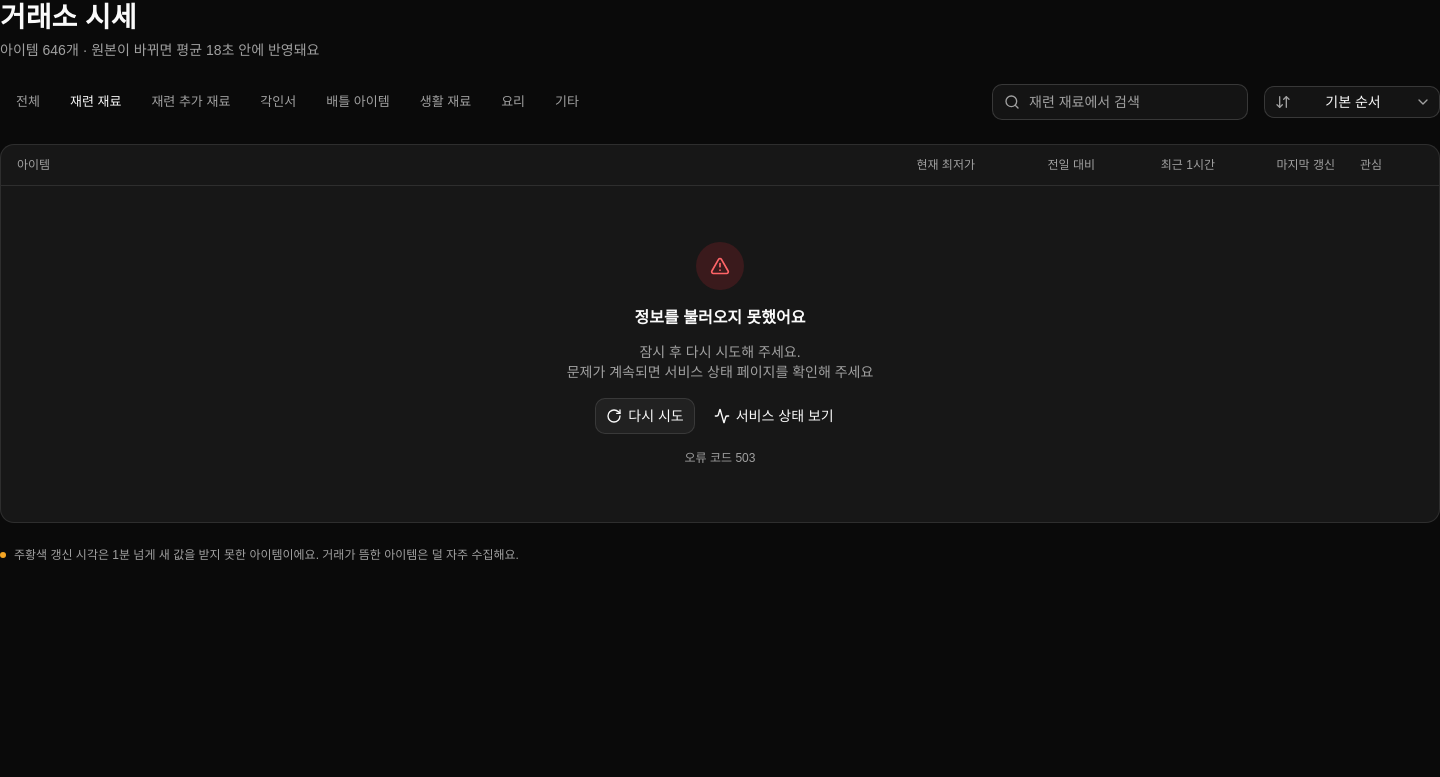
시세 목록 화면 › 목록을 불러오지 못하면 오류를 보여주고 다시 시도할 수 있다
This screenshot has width=1440, height=777.
expect the message shows "정보를 불러오지 못했어요": met, box [635,308,805,326]
Click the button "다시 시도" at (645, 416), box [595,398,695,434]
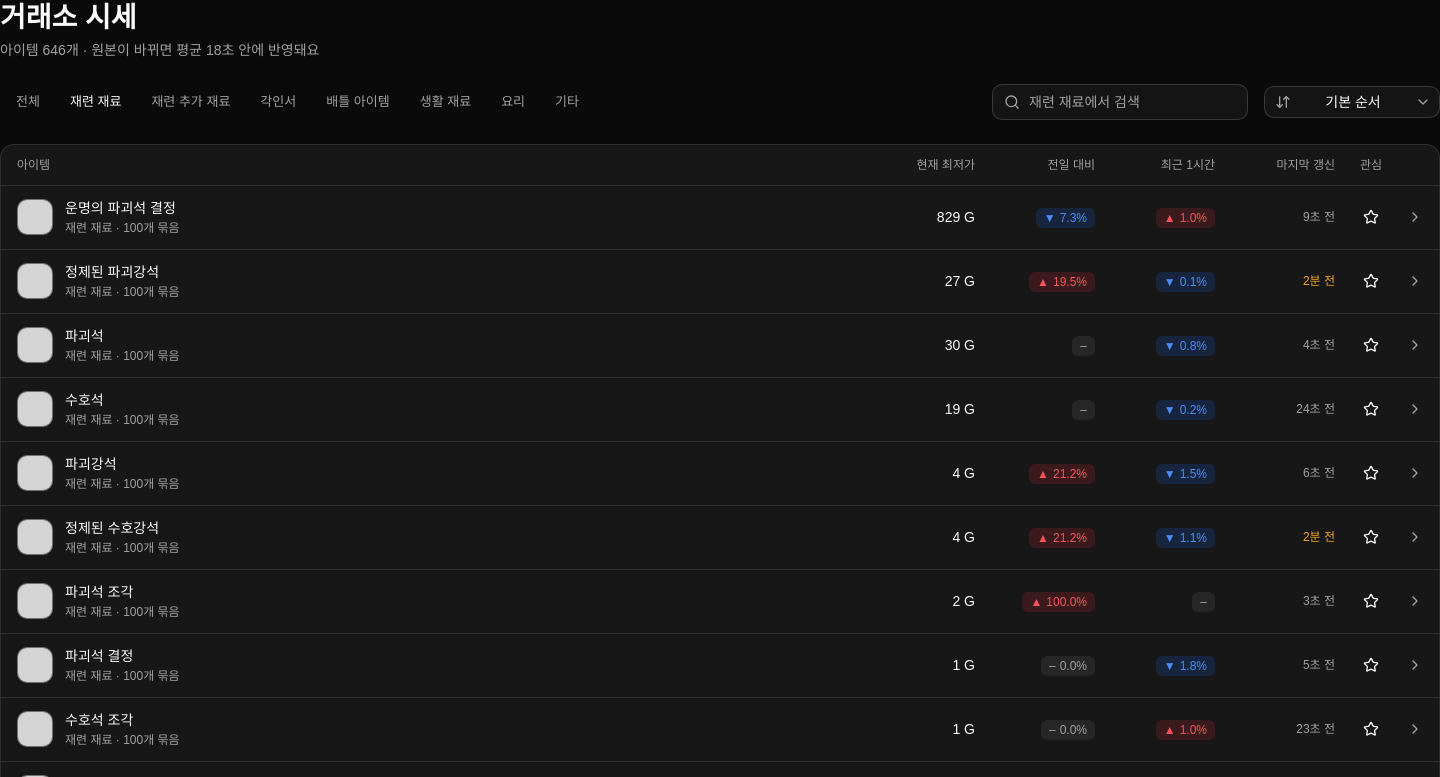
expect the link "운명의 파괴석 결정" is shown: met, box [65,198,180,218]
